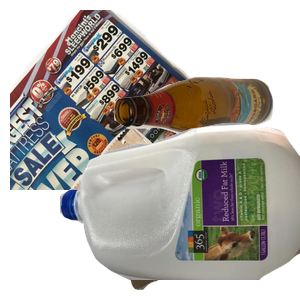glass: (111, 74, 300, 204)
paper: (10, 10, 240, 190)
plastic: (60, 120, 300, 300)
trash: (59, 124, 273, 300)
